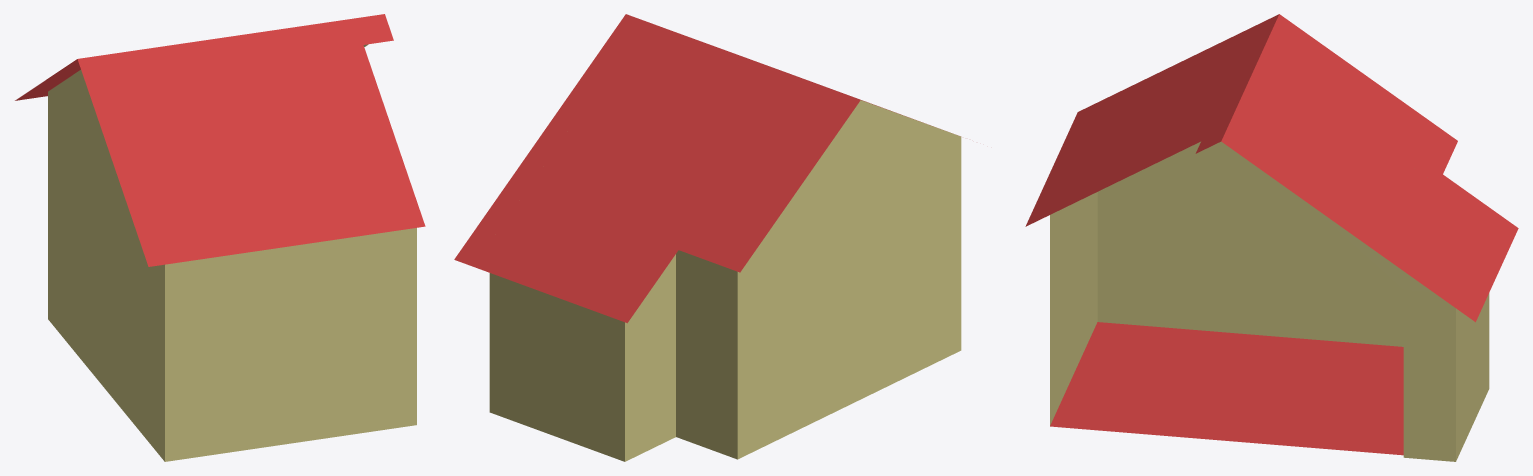
The picture shows the model from 3 angles, left to right: view 1: azimuth 30°, elevation 25°; view 2: azimuth 150°, elevation 25°; view 3: azimuth 270°, elevation 25°; orthographic projection. The views are drawn at different scales.
Bounding box in the file's own units: 11.71 × 14.82 × 10.35.
